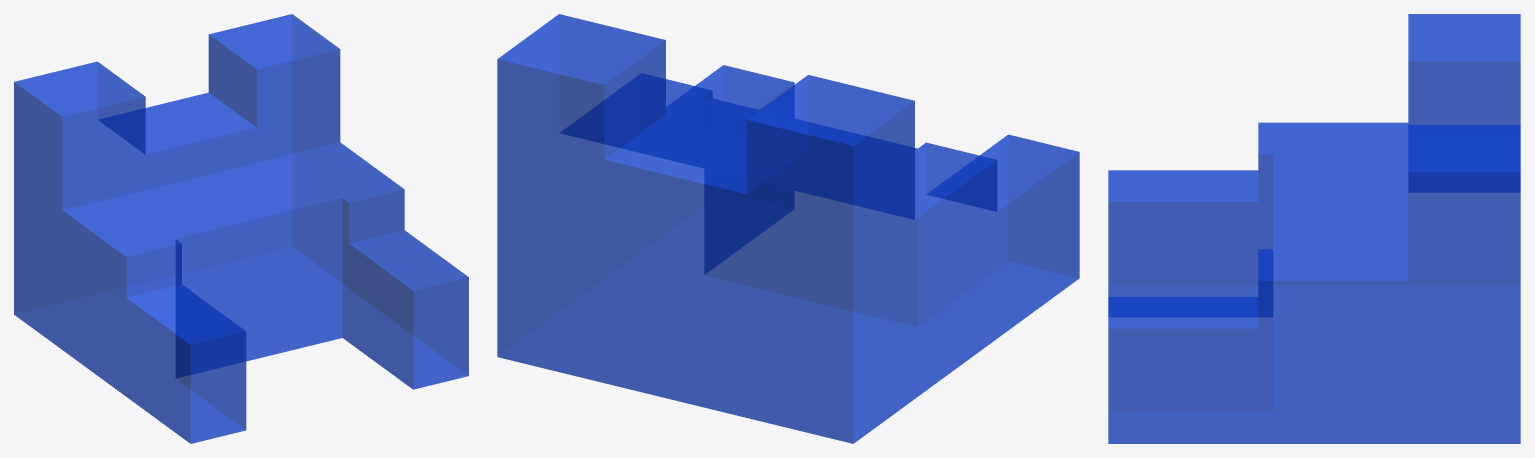
The picture shows the model from 3 angles, left to right: view 1: azimuth 30°, elevation 25°; view 2: azimuth 150°, elevation 25°; view 3: azimuth 270°, elevation 25°; orthographic projection. The views are drawn at different scales.
Visible parts, largest first — view 1: Sólido1; view 2: Sólido1; view 3: Sólido1.
Part boxes in pixels (x1,y1,x2,y2): Sólido1: (14, 14, 468, 443); Sólido1: (497, 14, 1079, 443); Sólido1: (1108, 14, 1520, 443).
Size of the model in its own units: 50 by 40 by 55.
